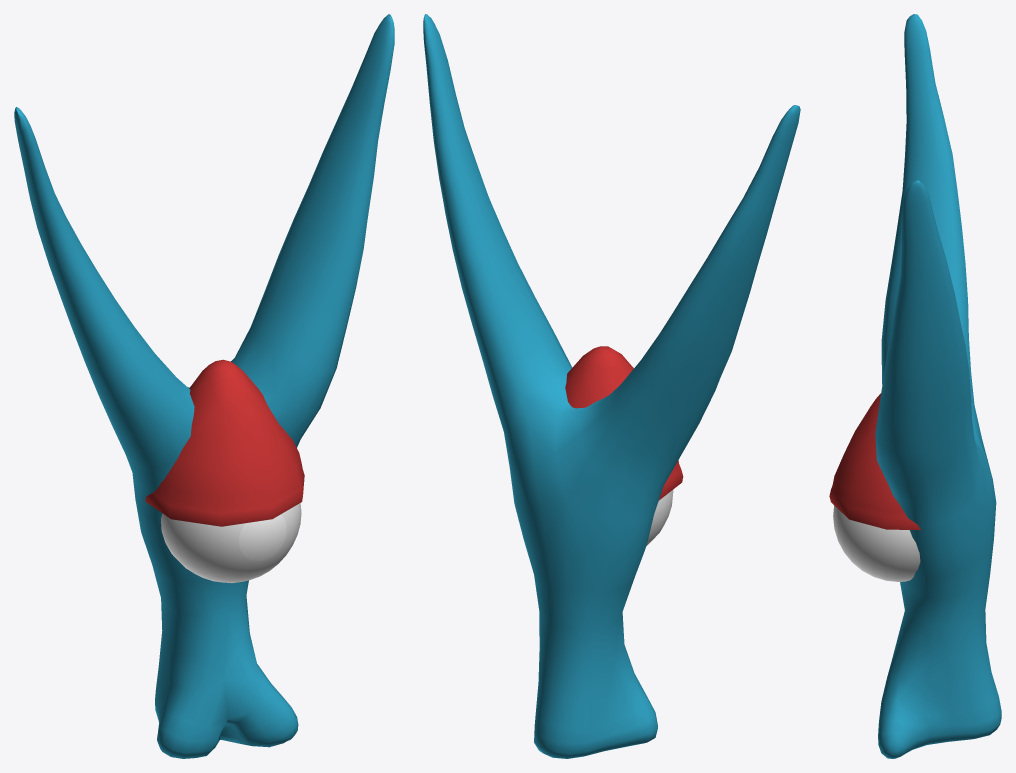
3 views of the same model, side by side, from view 1: azimuth 30°, elevation 25°; view 2: azimuth 150°, elevation 25°; view 3: azimuth 270°, elevation 25° (orthographic). The views are drawn at different scales.
Visible parts, largest first — view 1: Box013.001, Sphere083; view 2: Box013.001; view 3: Box013.001, Sphere083.
Boxes of the visible parts, box(x1,y1,x2,y2) form: Box013.001: box(14, 14, 394, 758); Sphere083: box(161, 503, 301, 583); Box013.001: box(423, 14, 800, 758); Box013.001: box(829, 14, 1001, 758); Sphere083: box(833, 505, 920, 581).
Size of the model in its own units: 0.0932 by 0.1626 by 0.04.
